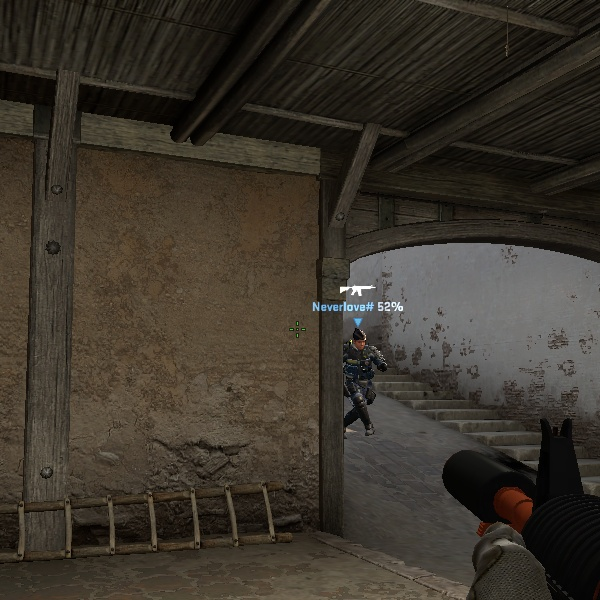ct_body: (342, 328, 387, 434)
ct_head: (351, 329, 366, 352)
